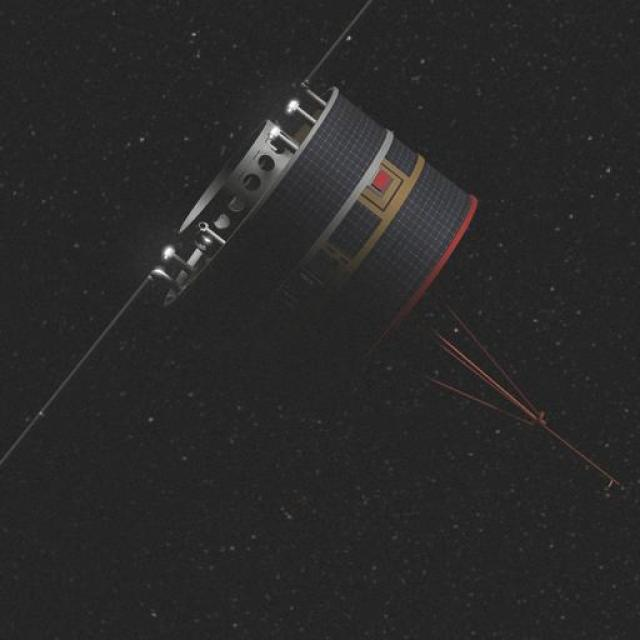double_start: (114, 84, 533, 445)
